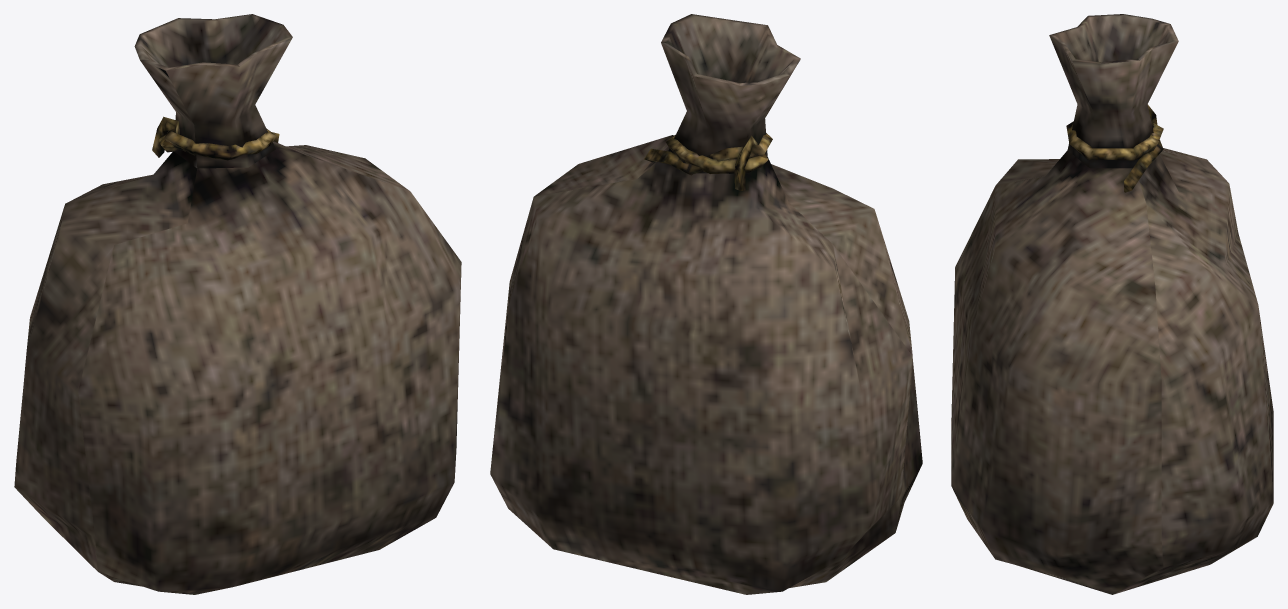
The model's file is bag_small.dae.
3 renders of one model, left to right at view 1: azimuth 30°, elevation 25°; view 2: azimuth 150°, elevation 25°; view 3: azimuth 270°, elevation 25°, orthographic. The views are drawn at different scales.
Visible parts, largest first — view 1: headusOBJexport; view 2: headusOBJexport; view 3: headusOBJexport.
Boxes of the visible parts, x1,y1,x2,y2 form: headusOBJexport: (14, 14, 461, 594); headusOBJexport: (490, 14, 922, 594); headusOBJexport: (951, 14, 1273, 594).
Size of the model in its own units: 0.4239 by 0.5382 by 0.3181.
